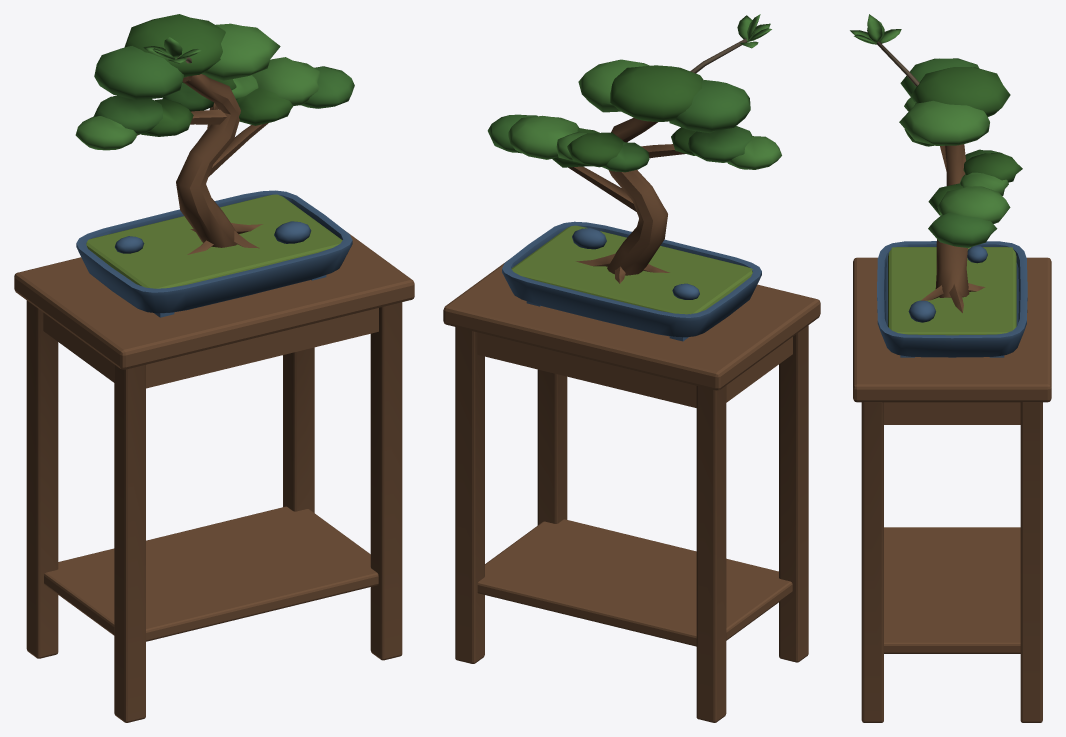
The model's file is bonsai.glb.
3 renders of one model, left to right at view 1: azimuth 30°, elevation 25°; view 2: azimuth 150°, elevation 25°; view 3: azimuth 270°, elevation 25°, orthographic. The views are drawn at different scales.
Parts seen in each view (by area): view 1: bonsai, sprig; view 2: bonsai, sprig; view 3: bonsai, sprig.
Boxes of the visible parts, x1,y1,x2,y2 form: bonsai: [14, 14, 414, 722]; sprig: [143, 37, 201, 63]; bonsai: [443, 59, 820, 722]; sprig: [690, 14, 771, 73]; bonsai: [853, 58, 1051, 722]; sprig: [850, 14, 919, 86].
Bounding box in the file's own units: 0.62 × 1.35 × 0.4074.
